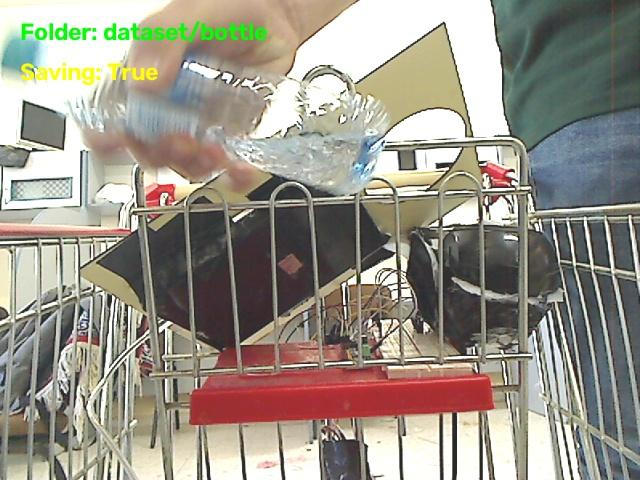Bottle: (72, 53, 389, 194)
